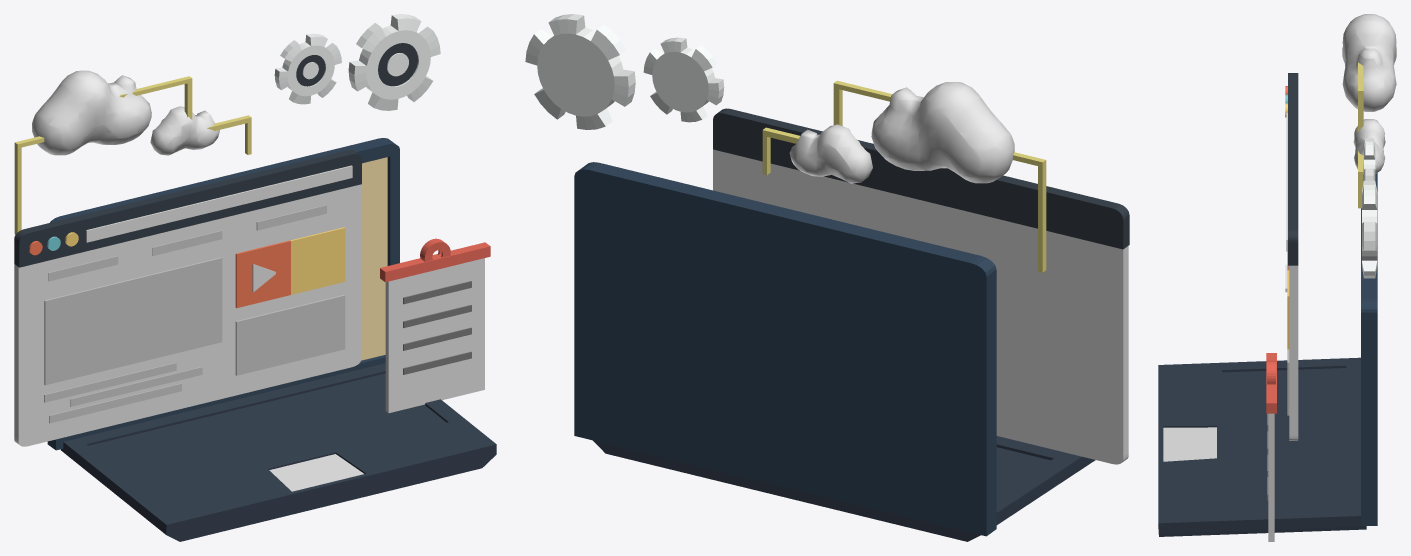
The picture shows the model from 3 angles, left to right: view 1: azimuth 30°, elevation 25°; view 2: azimuth 150°, elevation 25°; view 3: azimuth 270°, elevation 25°; orthographic projection. The views are drawn at different scales.
Parts seen in each view (by area): view 1: Cube.007, Cube, Cube.001, Cube.008, Cube.006, Mball.008, Cube.003, Cylinder.003, Cube.002, Cube.005, Cube.016, Cylinder.004 (+4 smaller); view 2: Cube.006, Cube, Mball.008, Cylinder.003, Cube.007, Cylinder.004, Cube.014; view 3: Cube.007, Mball.008, Cube.006, Cube, Cylinder.003, Cube.008, Cube.014, Cube.009, Cylinder.004.
Part boxes in pixels (left/top/right/bottom): Cube.007: left=60, top=363, right=496, bottom=541; Cube: left=14, top=150, right=361, bottom=446; Cube.001: left=44, top=257, right=222, bottom=385; Cube.008: left=385, top=258, right=484, bottom=413; Cube.006: left=47, top=138, right=399, bottom=450; Mball.008: left=32, top=70, right=219, bottom=155; Cube.003: left=235, top=295, right=345, bottom=375; Cylinder.003: left=348, top=14, right=440, bottom=110; Cube.002: left=235, top=227, right=345, bottom=308; Cube.005: left=86, top=165, right=352, bottom=242; Cube.016: left=44, top=362, right=202, bottom=423; Cylinder.004: left=274, top=33, right=341, bottom=104; Cube.006: left=574, top=162, right=996, bottom=536; Cube: left=713, top=108, right=1129, bottom=464; Mball.008: left=789, top=82, right=1014, bottom=183; Cylinder.003: left=525, top=14, right=635, bottom=129; Cube.007: left=593, top=436, right=1095, bottom=541; Cylinder.004: left=643, top=37, right=724, bottom=122; Cube.014: left=762, top=80, right=1046, bottom=272; Cube.007: left=1158, top=357, right=1366, bottom=536; Mball.008: left=1342, top=14, right=1396, bottom=173; Cube.006: left=1361, top=173, right=1377, bottom=525; Cube: left=1288, top=73, right=1298, bottom=440; Cylinder.003: left=1362, top=180, right=1377, bottom=278; Cube.008: left=1268, top=413, right=1274, bottom=541; Cube.014: left=1358, top=62, right=1363, bottom=208; Cube.009: left=1266, top=353, right=1276, bottom=413; Cylinder.004: left=1364, top=138, right=1375, bottom=180.
Bounding box in the file's own units: 7.92 × 6.38 × 3.62.
